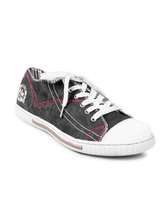shoesd: (12, 66, 159, 156)
